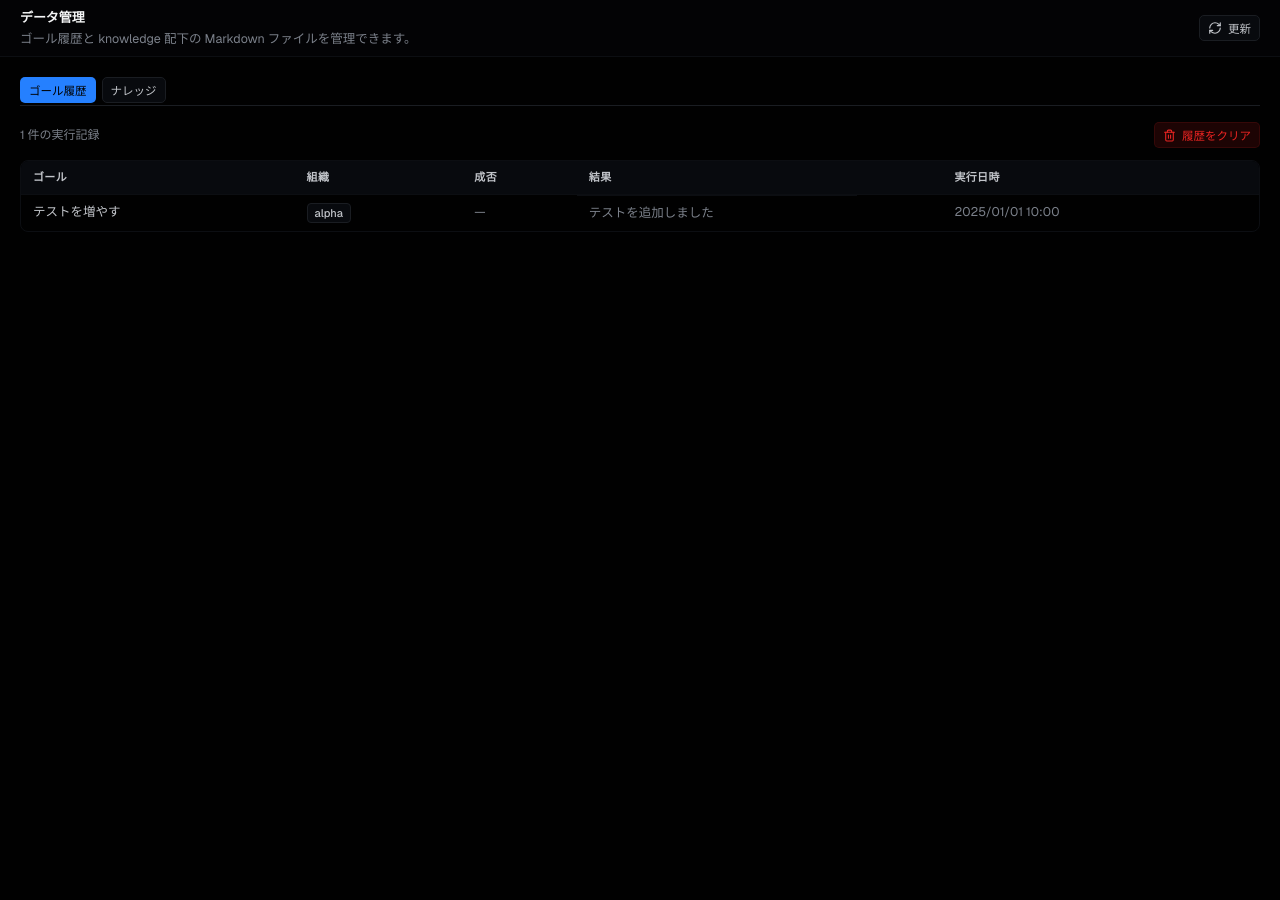
Test case: DataPage › cancels clear history when dialog is cancelled
Expected: the text "テストを増やす" is shown, [21,194,295,231]
Click the button "履歴をクリア" at (1207, 135), box [1154,122,1260,148]
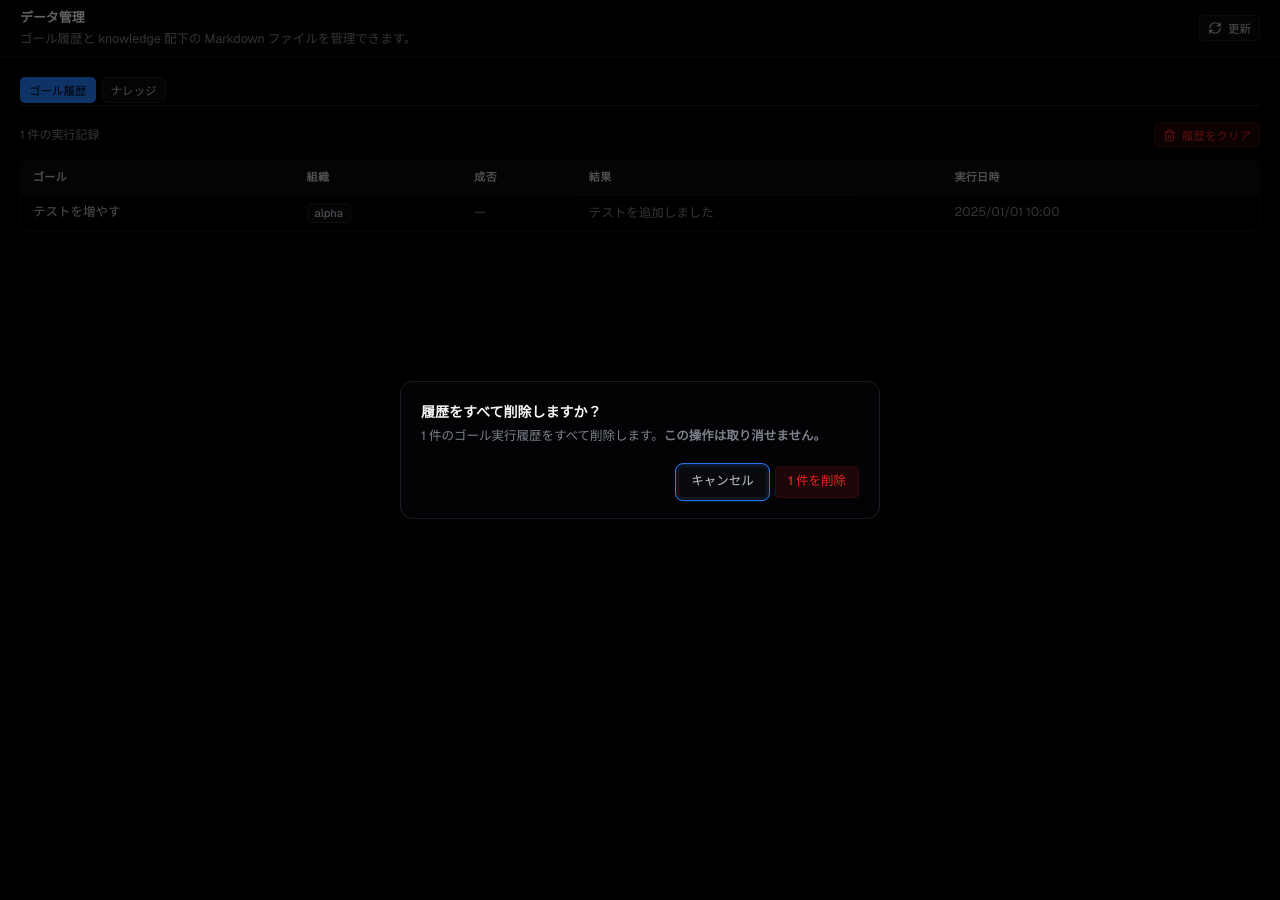
Expected: the dialog is shown, [400,381,880,519]
// Cancel the dialog
Click the button "キャンセル" at (723, 482), box [678,466,767,498]
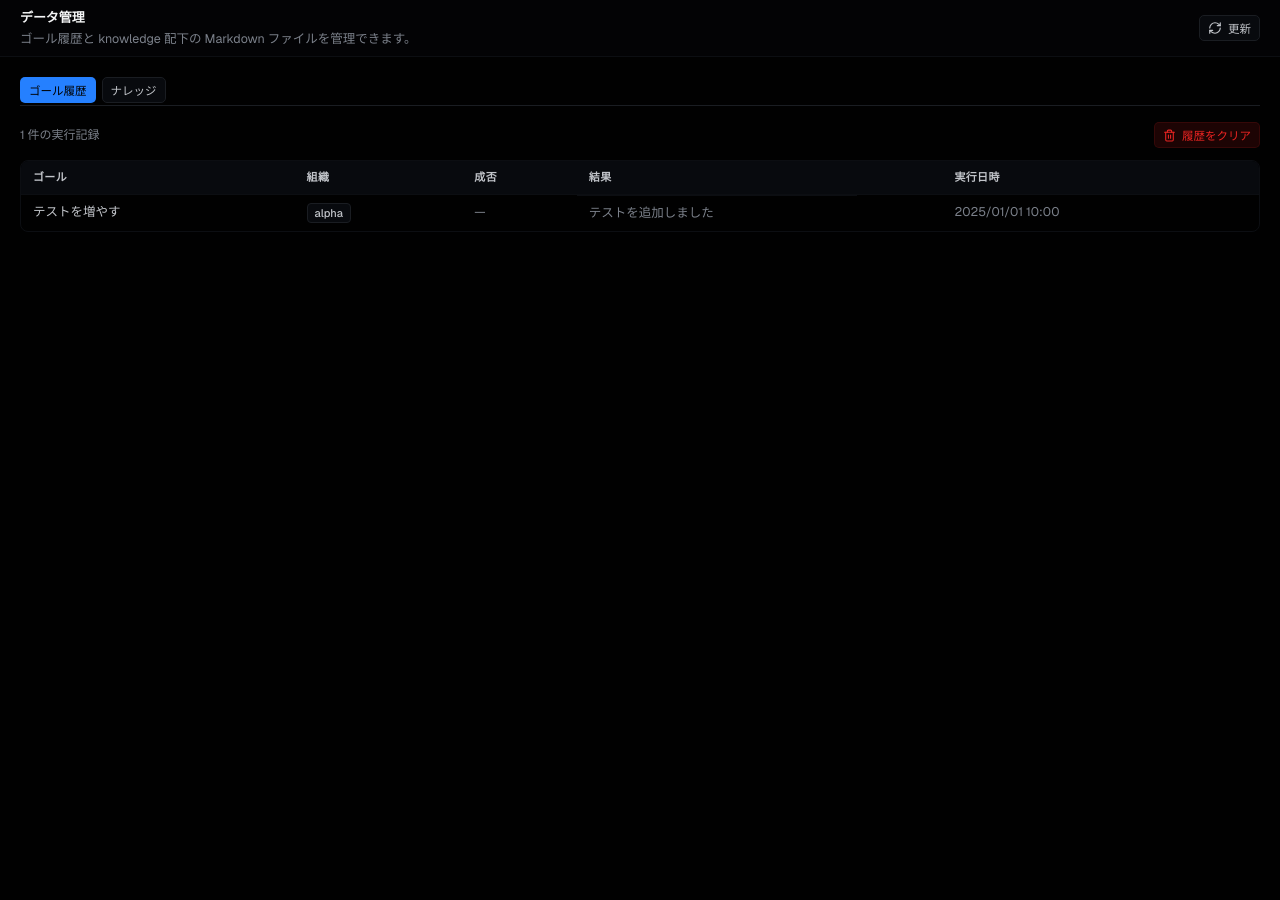
Expected: the text "テストを増やす" is shown, [21,194,295,231]
Expected: the dialog is gone
